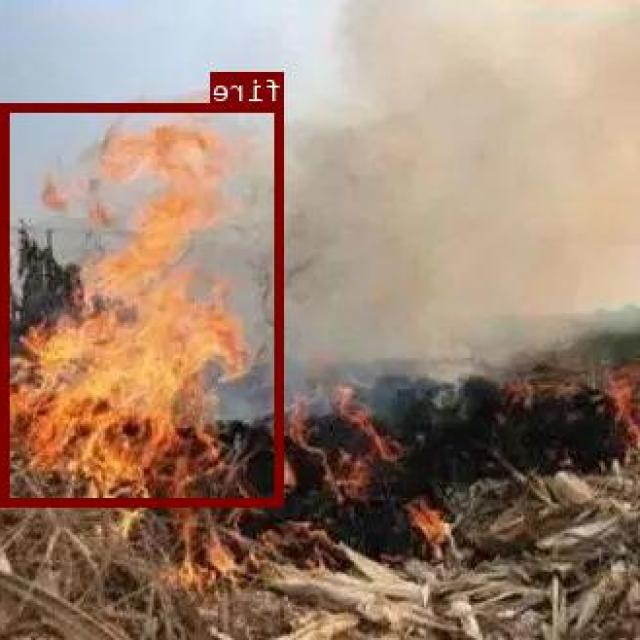fire: (4, 102, 284, 504)
